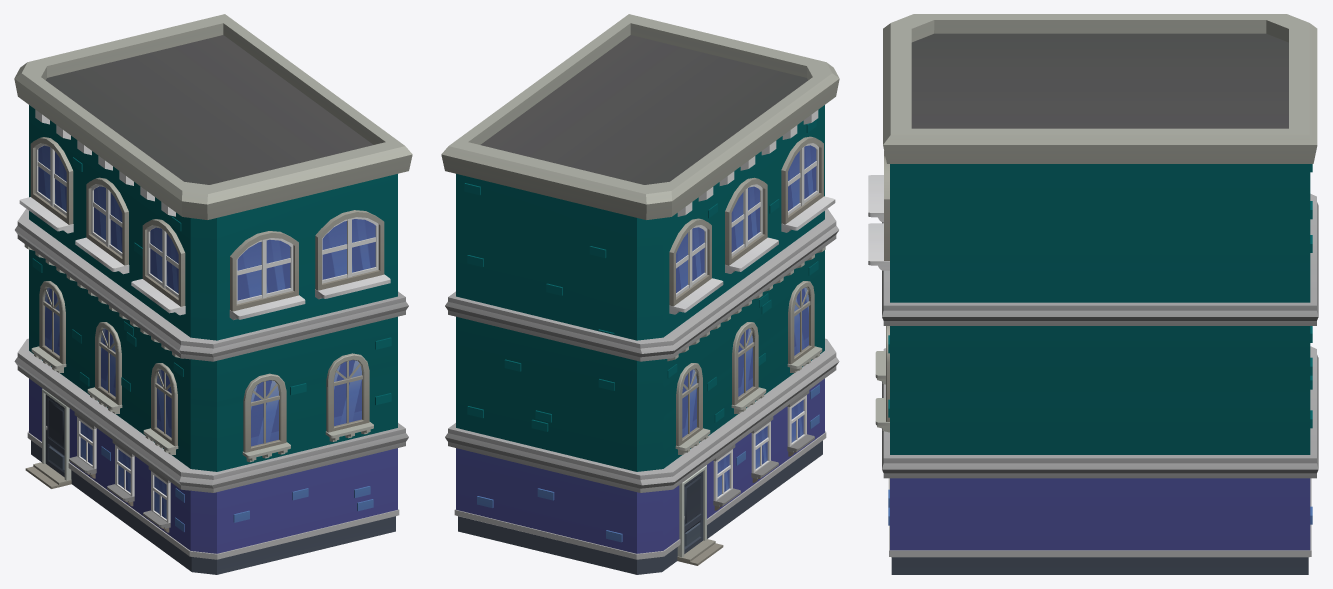
The model's file is Building_18_3_J.glb.
The picture shows the model from 3 angles, left to right: view 1: azimuth 30°, elevation 25°; view 2: azimuth 150°, elevation 25°; view 3: azimuth 270°, elevation 25°; orthographic projection. The views are drawn at different scales.
Parts seen in each view (by area): view 1: Building_18_3_J; view 2: Building_18_3_J; view 3: Building_18_3_J.
Boxes of the visible parts, box(x1,y1,x2,y2) form: Building_18_3_J: box(14, 14, 412, 574); Building_18_3_J: box(441, 14, 839, 574); Building_18_3_J: box(868, 14, 1318, 574).
Bounding box in the file's own units: 7.19 × 11.56 × 10.59.
3 materials, 3 textured.
